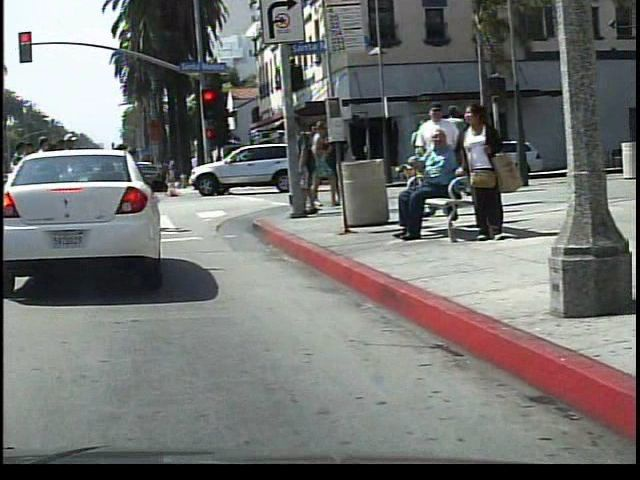person: (448, 100, 512, 238), (391, 130, 462, 247), (304, 117, 345, 208), (201, 146, 226, 197)
